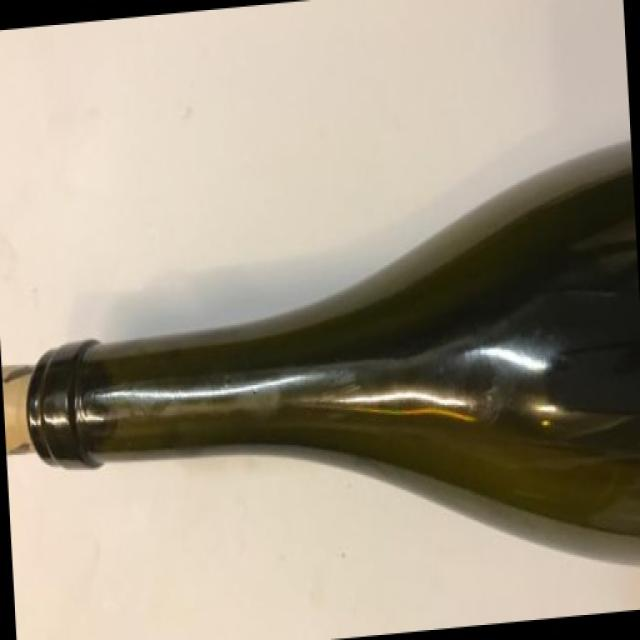vidrio: (16, 123, 640, 595)
